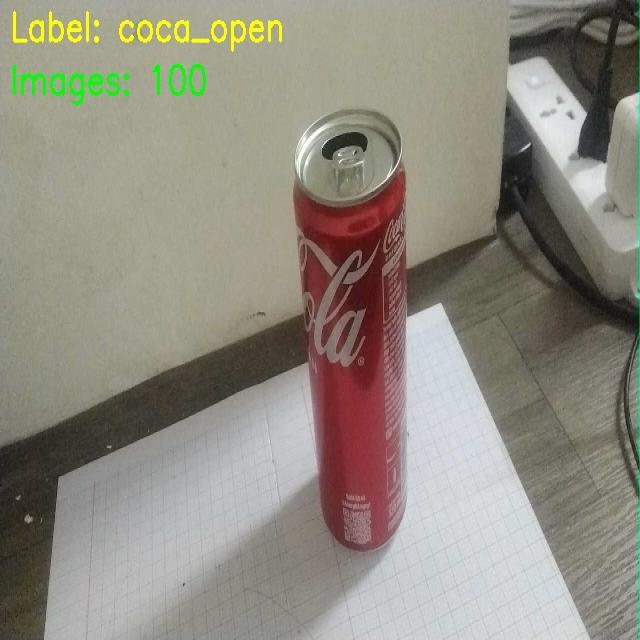Coca_open: (292, 96, 432, 580)
